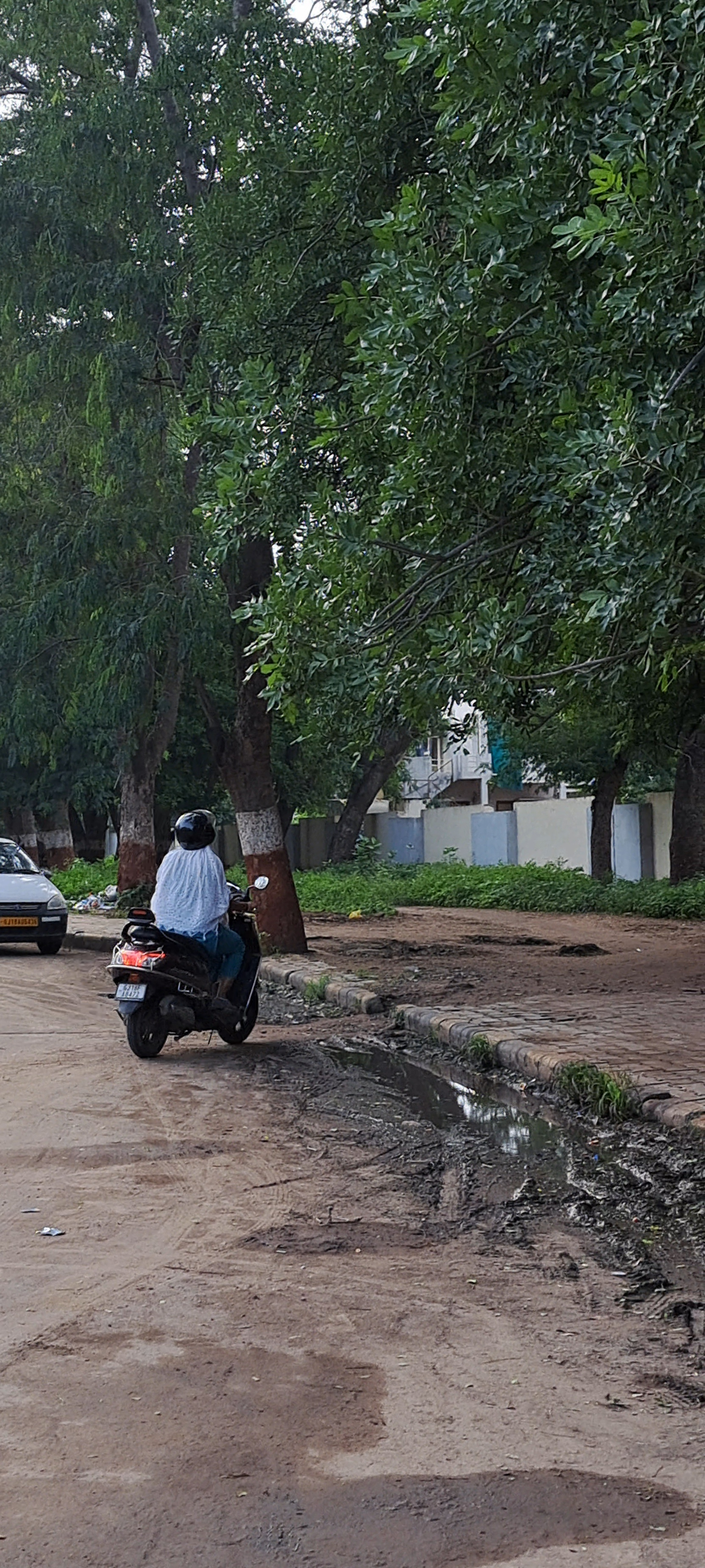BikeWithRider: (101, 800, 276, 1069)
Helmet: (167, 802, 221, 857)
